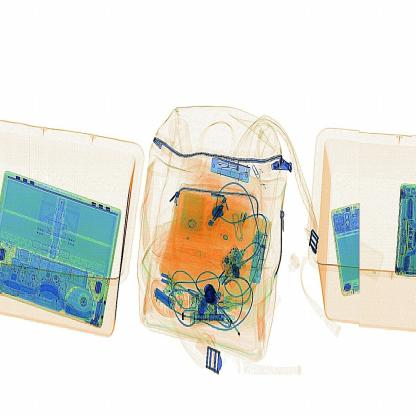scissors: (196, 277, 216, 314)
